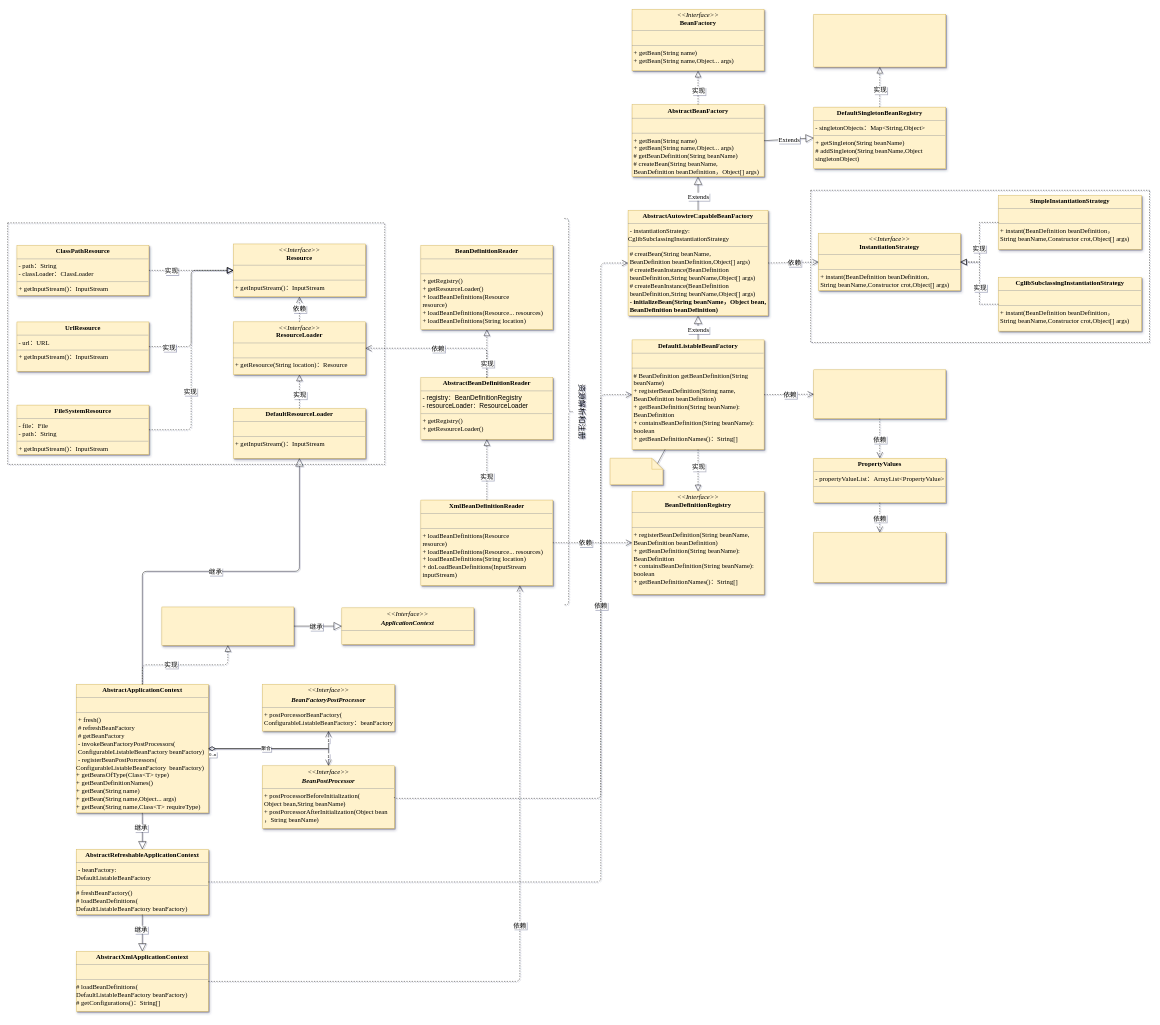
Image size: 1160x1025. Some labels were removed from this diagram. The centre of each missing label's shape, as x and y in pixels:
<<Interface>> ConfigurableApplicationContext + refresh(): (x=228, y=626)
<<Interface>> SingletonBeanFactory + getSingleton(String beanName): (x=880, y=41)
BeanDefinition - beanClass：Class - propertyValues：PropertyValues: (x=880, y=395)
PropertyValue - name：String - value：Object: (x=880, y=557)
实例化策略: (x=980, y=266)
核心实现类: (x=637, y=472)
资源加载: (x=196, y=343)
